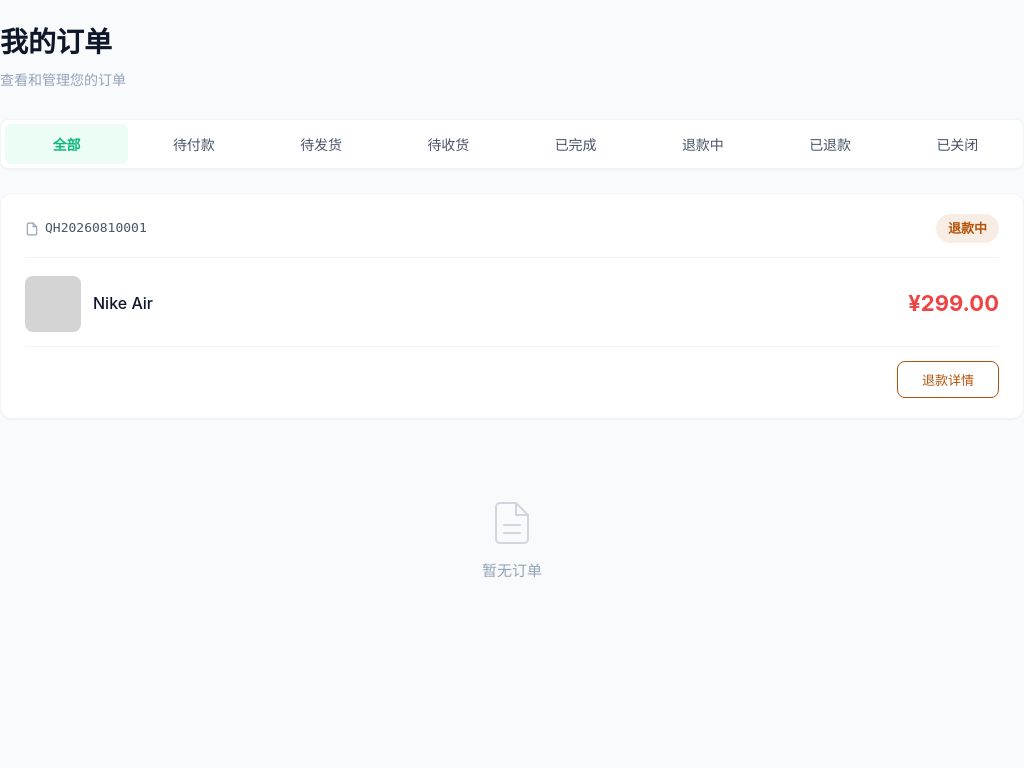
Test: Orders 订单中心页 › 退款详情弹窗（P2-18） › 已拒绝的退款展示商家备注
Click the button with class "btn-refund". click: (948, 380)
box: x1=897 y1=361 x2=999 y2=398
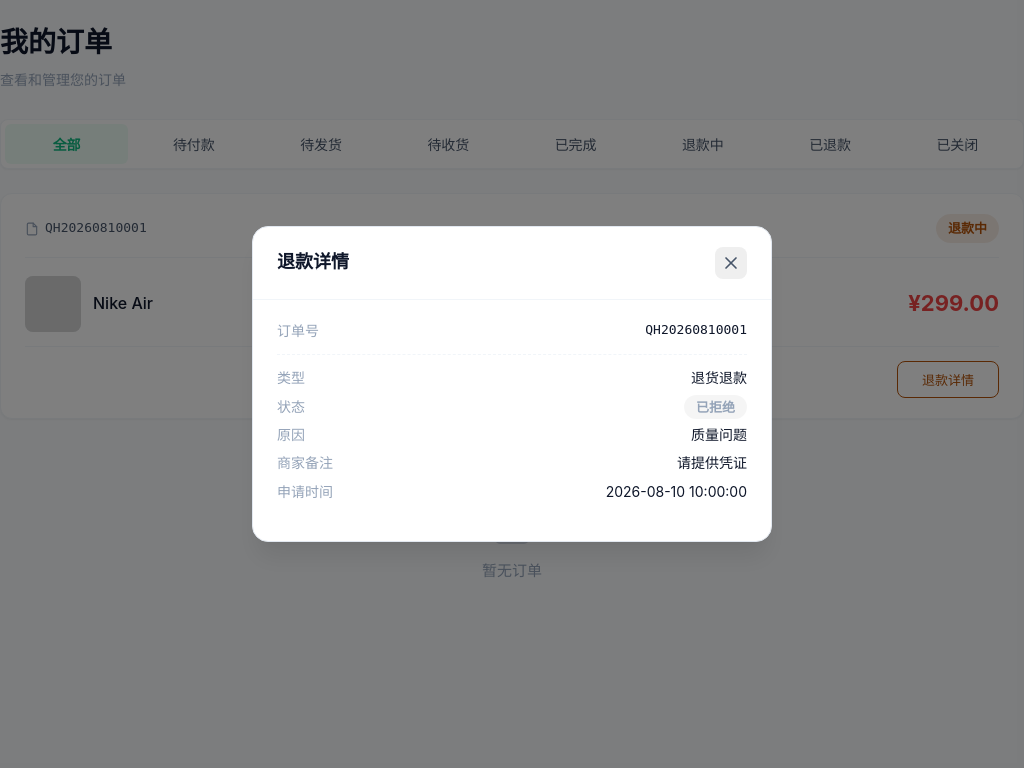
Now the text "退货退款" is shown, box x1=691 y1=367 x2=747 y2=390
Now the text "已拒绝" is shown, box x1=684 y1=395 x2=747 y2=419
Now the text "请提供凭证" is shown, box x1=677 y1=452 x2=747 y2=475
